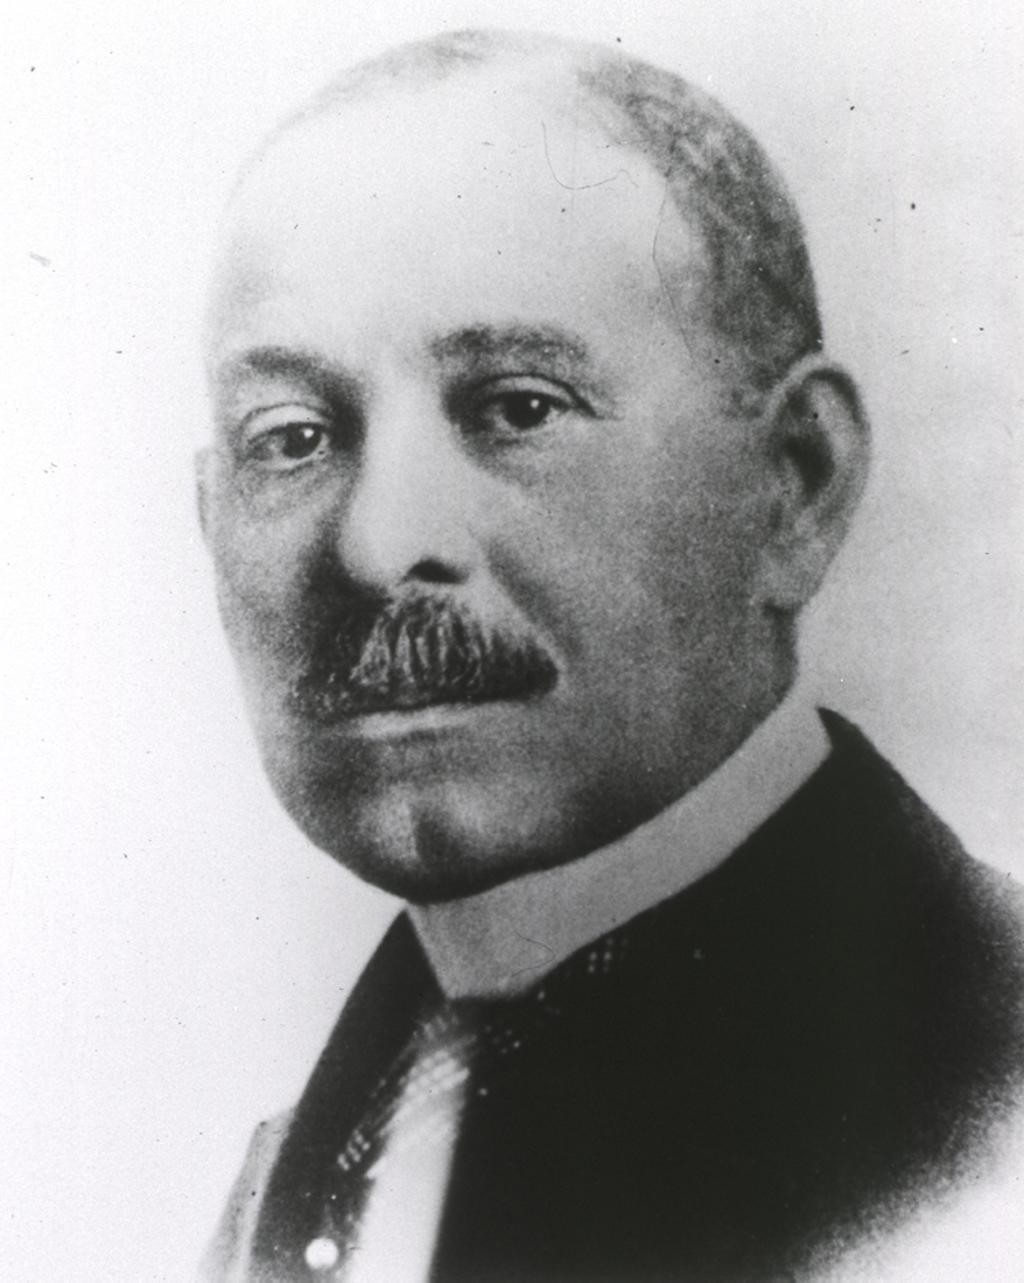face: (213, 150, 766, 889)
